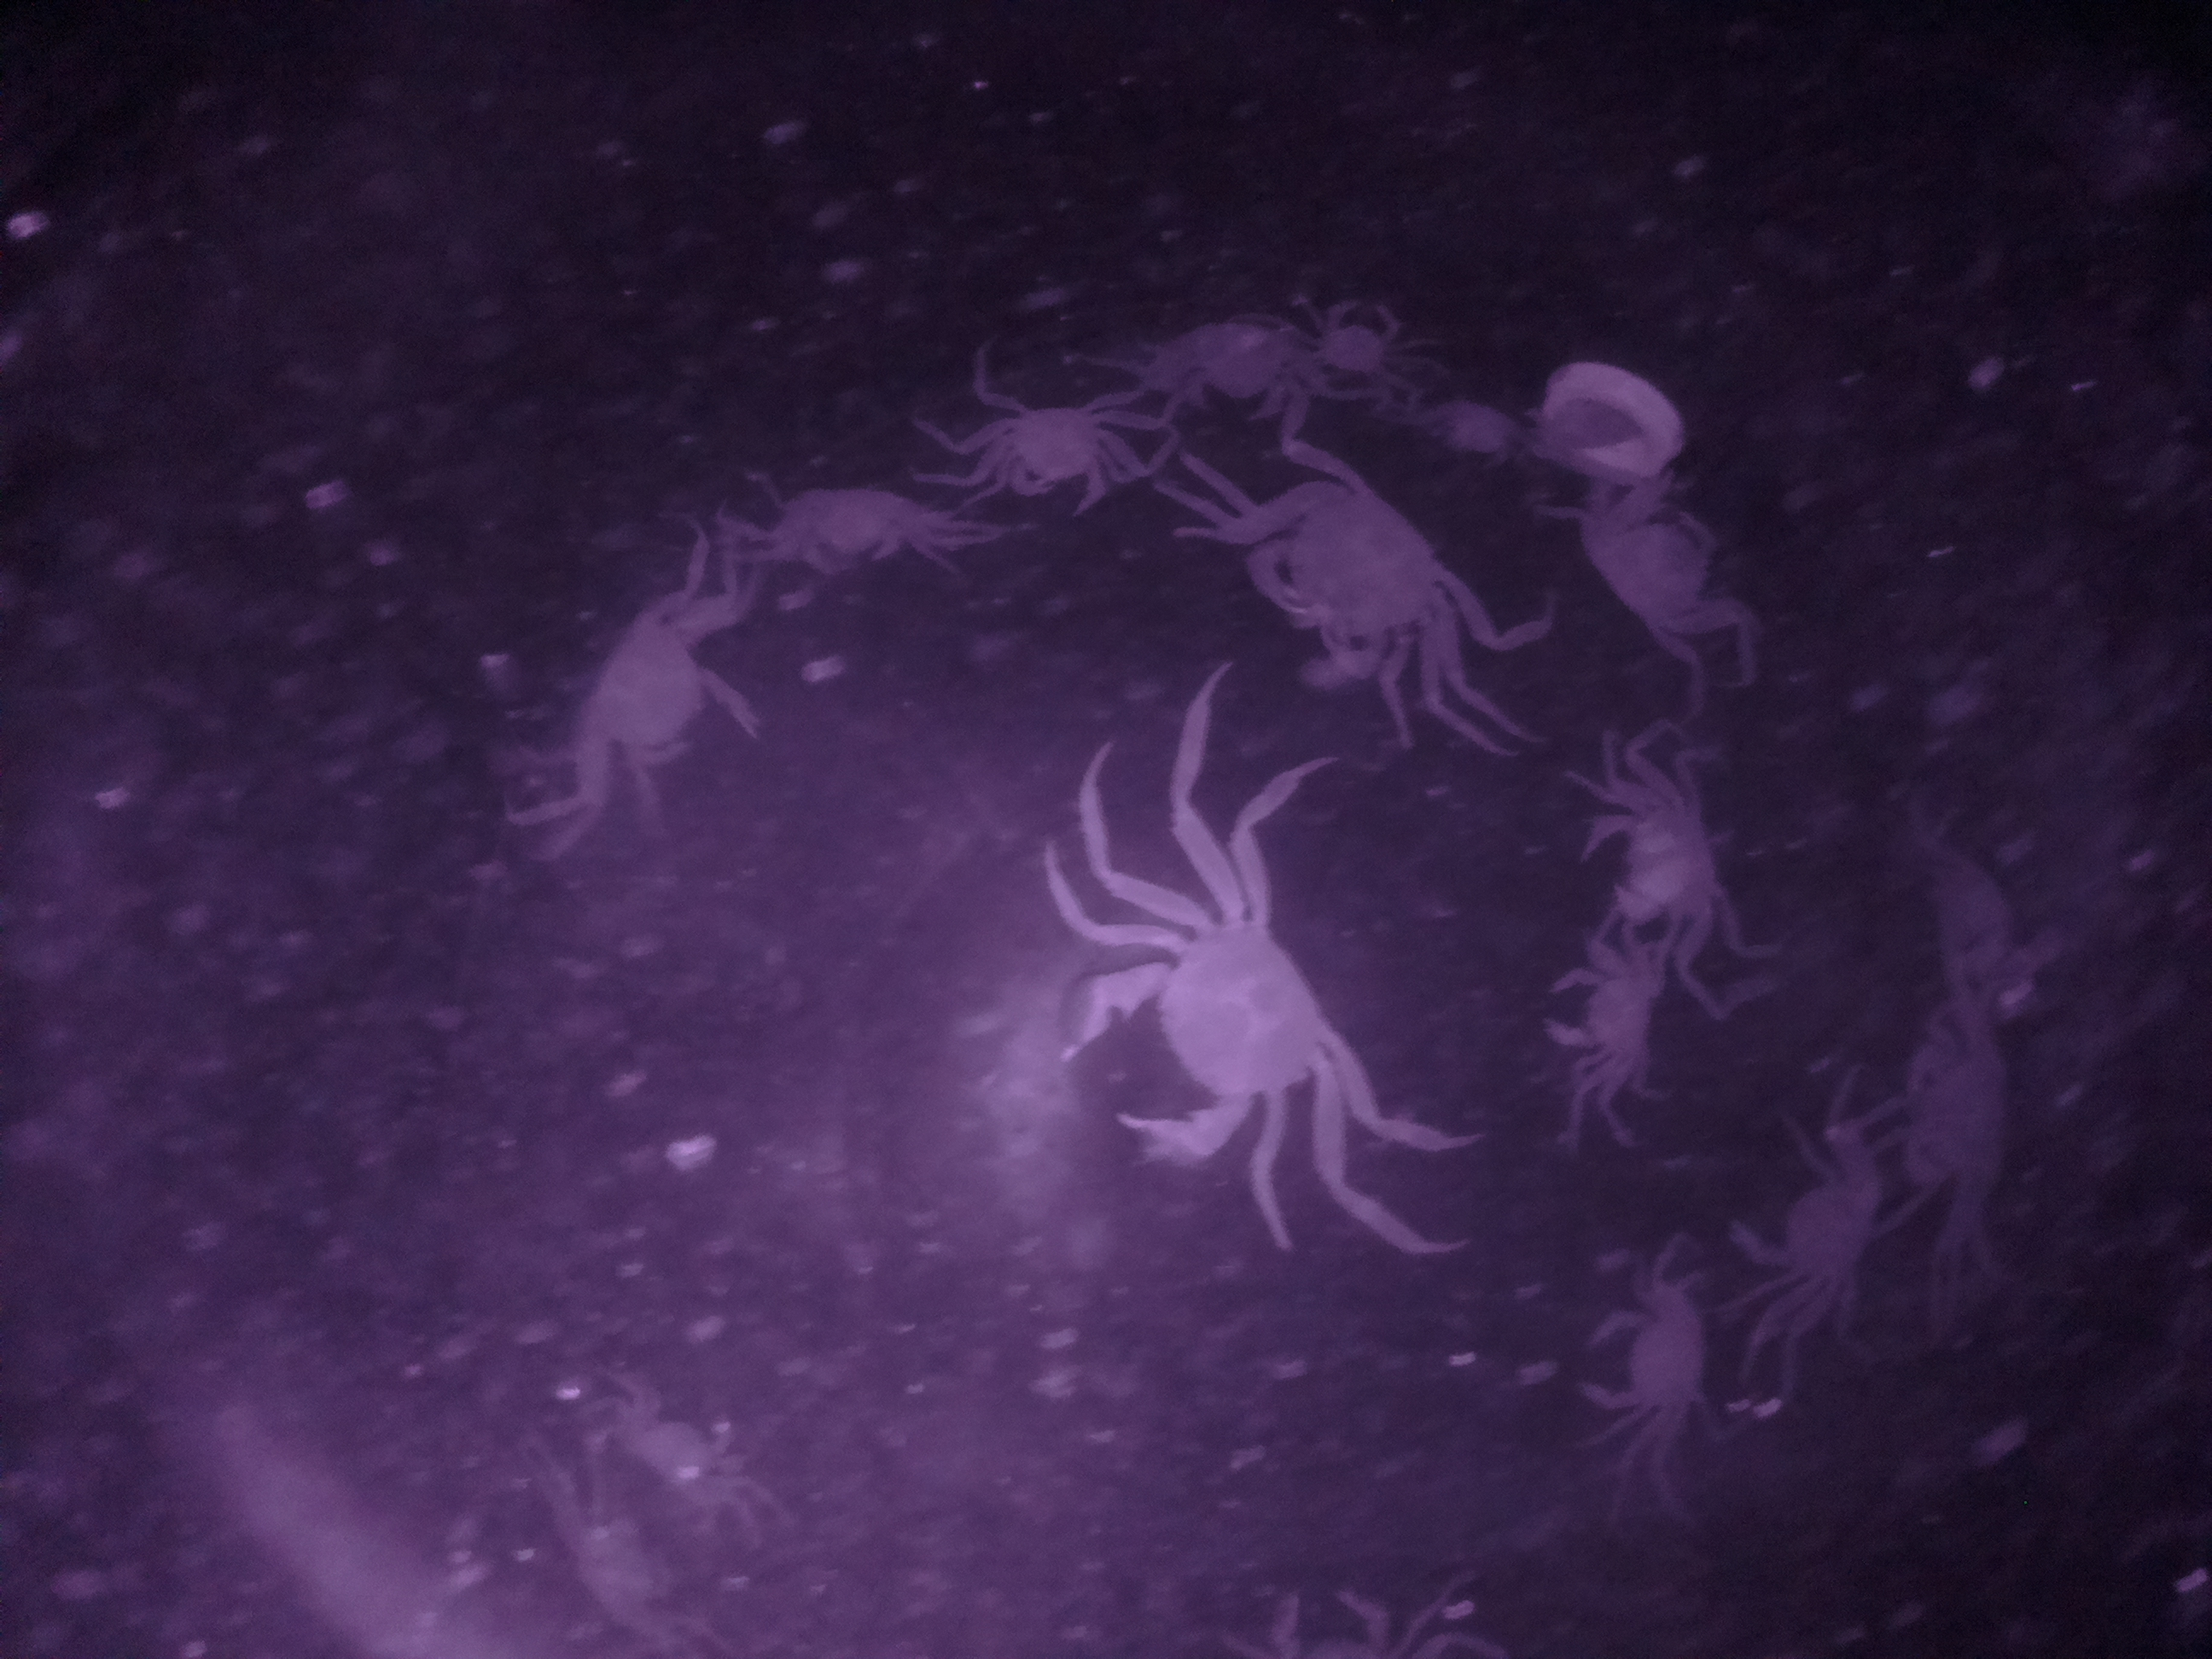Crab: (1061, 890, 1359, 1176), (1245, 453, 1465, 695), (1564, 770, 1740, 939), (1562, 1288, 1723, 1445), (972, 378, 1143, 525), (763, 467, 934, 577), (1547, 951, 1658, 1094)
